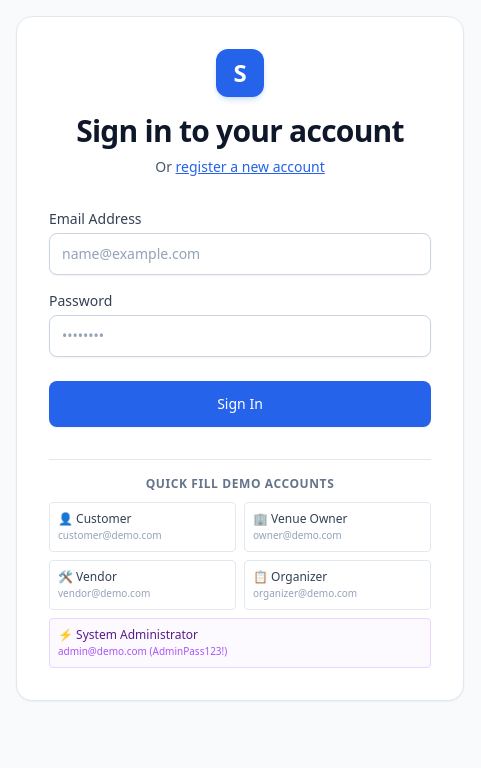
it: Auth Pages & Validation › displays error message when login fails
In the field labelled "Email Address": (240, 254) [49,233,431,275], type "wrong@example.com"
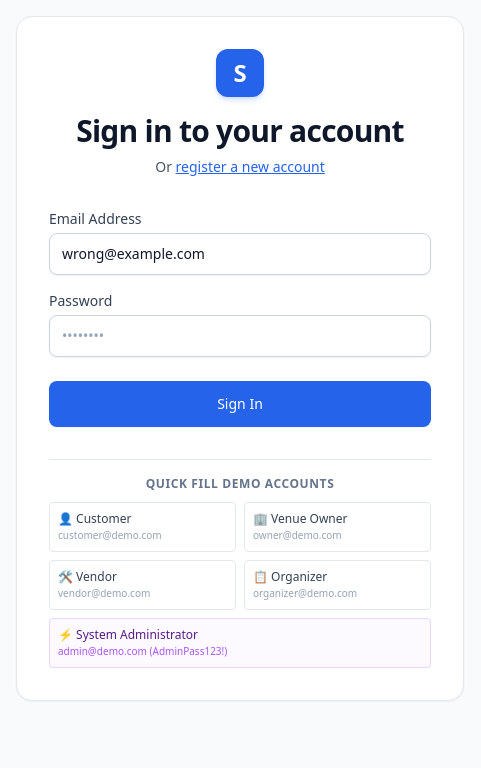
In the password field labelled "Password": (240, 336) [49,315,431,357], type "wrongpass"
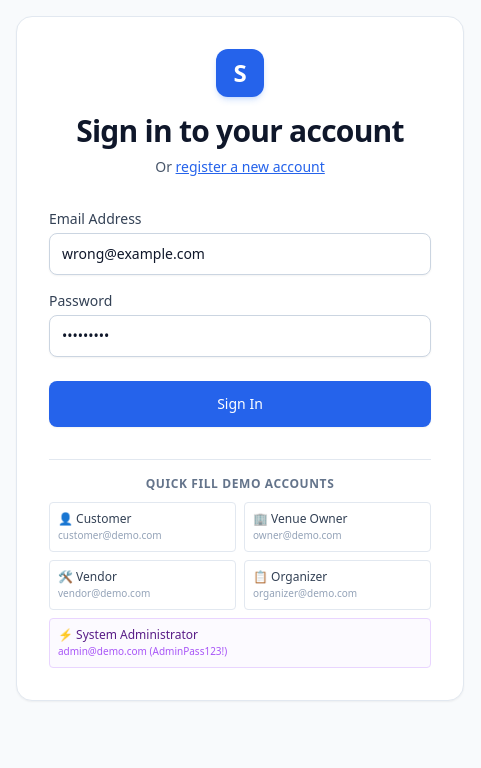
Click the button "Sign In": (240, 404) [49,381,431,427]
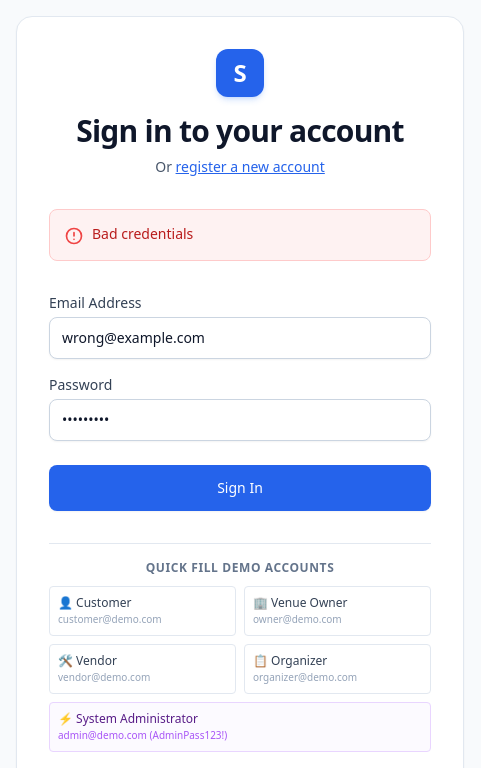
Now the text "Bad credentials" is shown, box [92,224,193,244]
